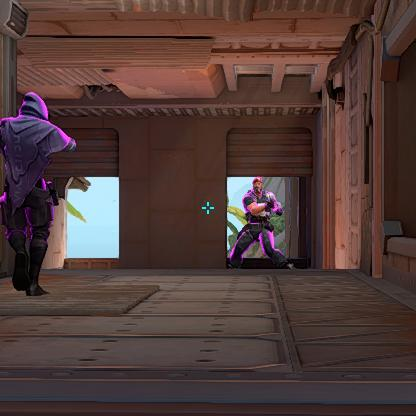enemyBody: (11, 123, 43, 177), (251, 193, 267, 219)
enemyHead: (23, 98, 42, 118), (253, 180, 261, 191)
